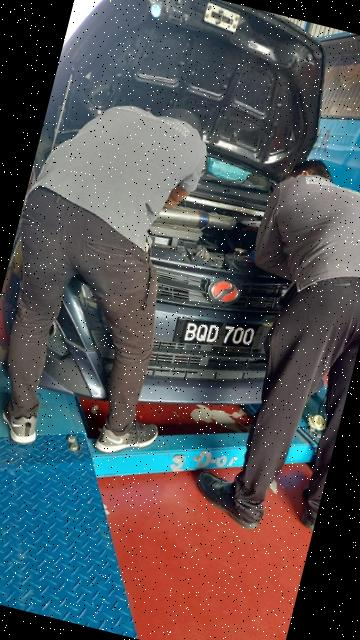License_Plate: (175, 304, 266, 367)
car: (1, 1, 360, 468)
